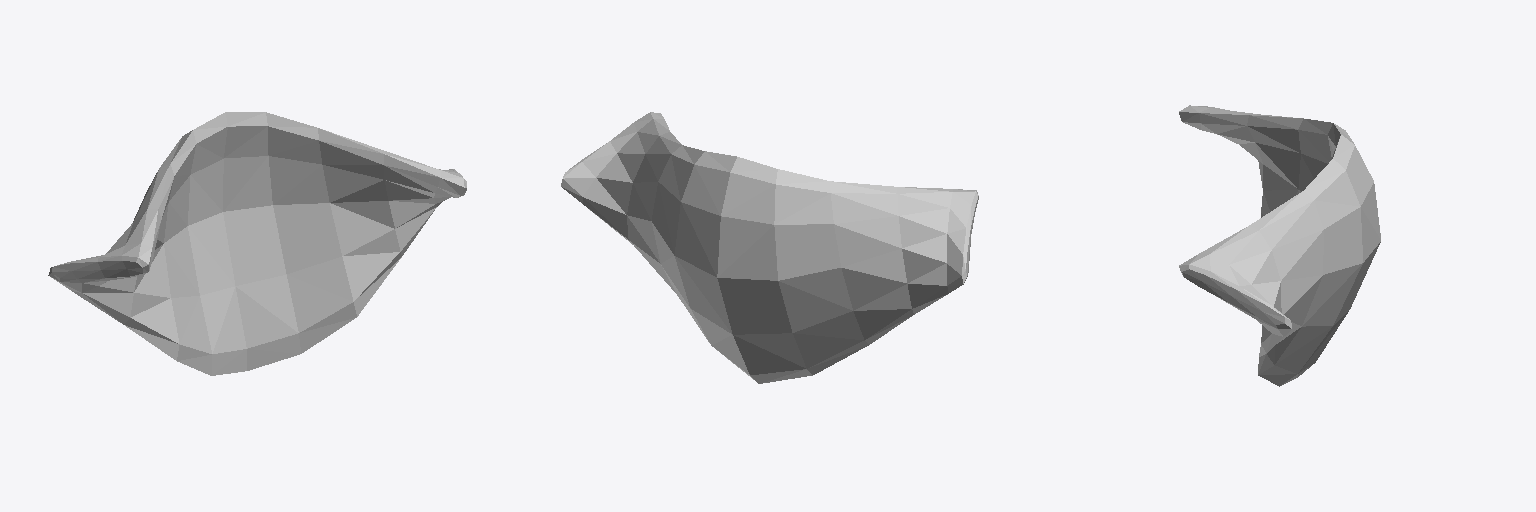
The model's file is Connective.Ligaments.Transversum_atlantis.obj.
3 views of the same model, side by side, from view 1: azimuth 30°, elevation 25°; view 2: azimuth 150°, elevation 25°; view 3: azimuth 270°, elevation 25° (orthographic).
Visible parts, largest first — view 1: Connective:Ligaments:Transversum_atlantis_Ligaments.029; view 2: Connective:Ligaments:Transversum_atlantis_Ligaments.029; view 3: Connective:Ligaments:Transversum_atlantis_Ligaments.029.
Boxes of the visible parts, x1,y1,x2,y2 form: Connective:Ligaments:Transversum_atlantis_Ligaments.029: [48, 112, 466, 375]; Connective:Ligaments:Transversum_atlantis_Ligaments.029: [561, 112, 978, 383]; Connective:Ligaments:Transversum_atlantis_Ligaments.029: [1179, 105, 1380, 386].
Size of the model in its own units: 0.1219 by 0.0703 by 0.0531.